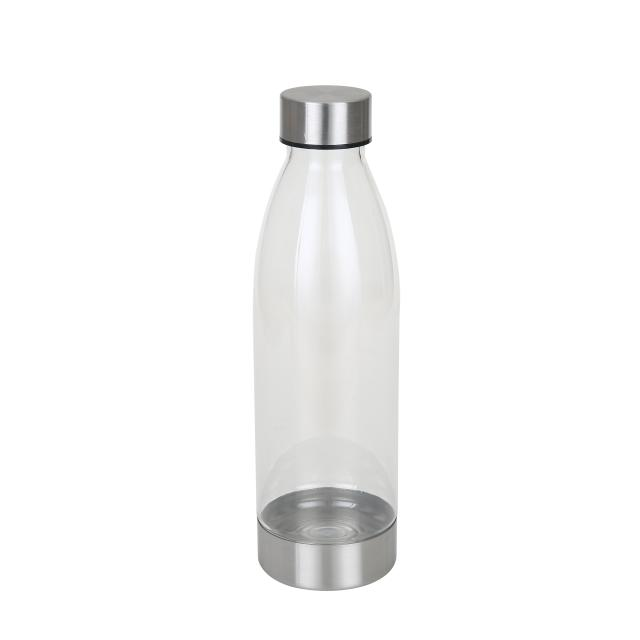plastic_bottle: (252, 83, 401, 591)
